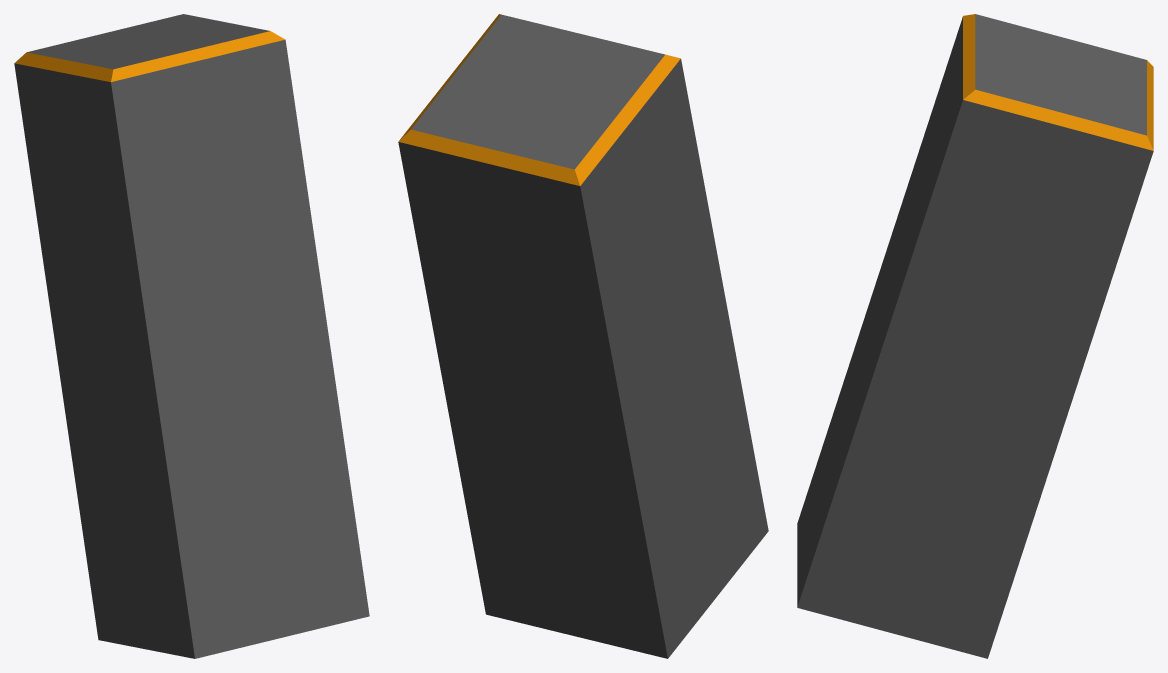
File: Pillier_Volcan.fbx
3 renders of one model, left to right at view 1: azimuth 30°, elevation 25°; view 2: azimuth 150°, elevation 25°; view 3: azimuth 270°, elevation 25°, orthographic. The views are drawn at different scales.
Parts seen in each view (by area): view 1: polySurface32; view 2: polySurface32; view 3: polySurface32.
Boxes of the visible parts, box(x1,y1,x2,y2) form: polySurface32: box(14, 14, 369, 658); polySurface32: box(398, 14, 768, 658); polySurface32: box(797, 14, 1153, 658).
Size of the model in its own units: 0.2094 by 0.6568 by 0.3755.
